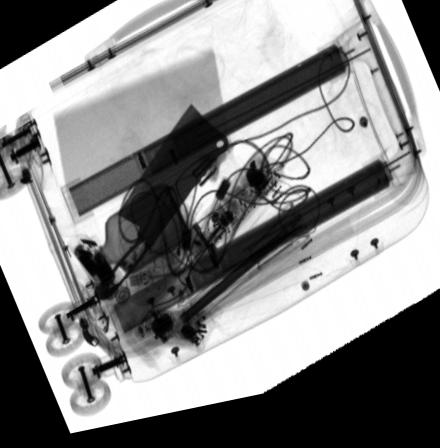Knife: (94, 111, 229, 304)
